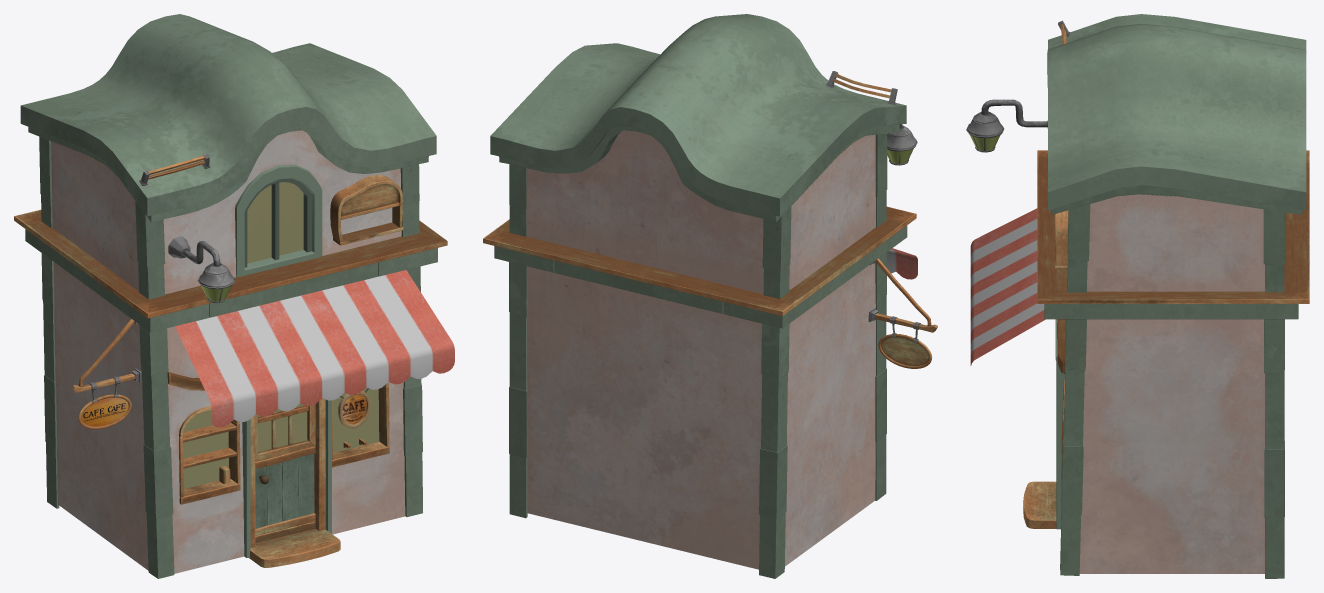
Rendered from CafeHouse.fbx.
3 views of the same model, side by side, from view 1: azimuth 30°, elevation 25°; view 2: azimuth 150°, elevation 25°; view 3: azimuth 270°, elevation 25° (orthographic).
Parts seen in each view (by area): view 1: Cube.1161, Cube.1158, Plane.021, Cube.1159, Cube.1199, Cube.1153, Cube.1154, Cube.1219, Cube.1182, Cube.1152, Cube.1165, Cube.1220 (+20 smaller); view 2: Cube.1161, Cube.1158, Cube.1159, Cube.1199, Cube.1153, Cube.1152, Circle.070, Plane.021; view 3: Cube.1161, Cube.1158, Cube.1159, Plane.021, Cube.1199, Cube.1153, Cube.1152, Cube.1165, Cube.1157, Cube.1182, Cylinder.038, Cylinder.037 (+1 smaller).
Boxes of the visible parts, <box> form: Cube.1161: <box>51,130,405,573</box>; Cube.1158: <box>20,14,436,216</box>; Plane.021: <box>175,270,454,427</box>; Cube.1159: <box>39,136,422,578</box>; Cube.1199: <box>14,209,447,318</box>; Cube.1153: <box>25,229,437,332</box>; Cube.1154: <box>235,164,322,277</box>; Cube.1219: <box>247,182,303,263</box>; Cube.1182: <box>330,175,403,245</box>; Cube.1152: <box>28,125,428,222</box>; Cube.1165: <box>249,528,340,567</box>; Cube.1220: <box>183,410,228,488</box>; Cube.1161: <box>526,130,875,569</box>; Cube.1158: <box>490,14,906,216</box>; Cube.1159: <box>509,133,887,578</box>; Cube.1199: <box>483,206,916,316</box>; Cube.1153: <box>494,225,907,328</box>; Cube.1152: <box>499,124,899,221</box>; Circle.070: <box>878,334,932,368</box>; Plane.021: <box>887,248,917,279</box>; Cube.1161: <box>1079,194,1264,573</box>; Cube.1158: <box>1047,14,1306,210</box>; Cube.1159: <box>1060,204,1284,578</box>; Plane.021: <box>970,208,1045,365</box>; Cube.1199: <box>1037,150,1309,303</box>; Cube.1153: <box>1044,304,1298,319</box>; Cube.1152: <box>1051,185,1302,214</box>; Cube.1165: <box>1023,481,1056,528</box>; Cube.1157: <box>1056,360,1064,529</box>; Cube.1182: <box>1055,210,1068,268</box>; Cylinder.038: <box>967,111,1003,136</box>; Cylinder.037: <box>981,99,1047,127</box>.
Bounding box in the file's own units: 407 × 528 × 343.
4 materials, 4 textured.
